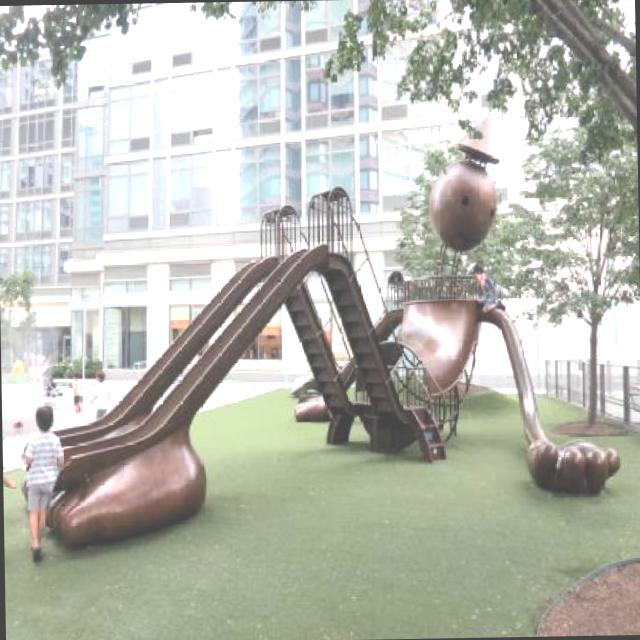Person: (18, 405, 62, 560), (470, 261, 504, 316), (89, 372, 111, 416), (27, 354, 38, 382), (9, 355, 23, 374)
